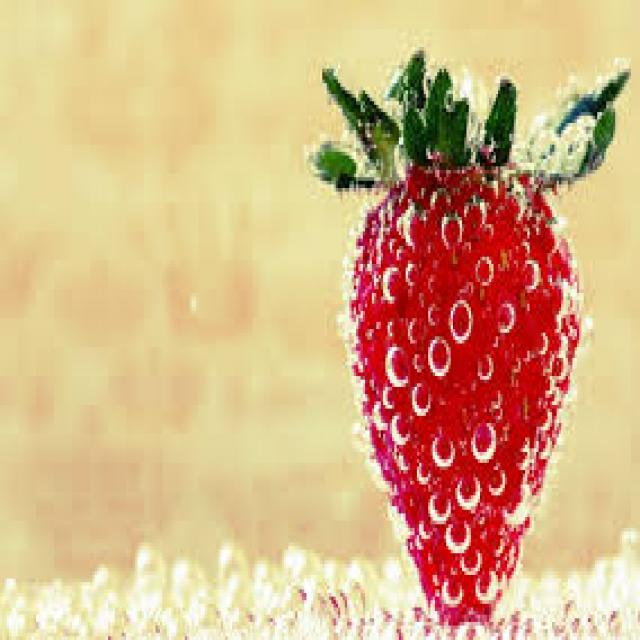organic waste: (345, 159, 579, 622), (304, 43, 627, 181)
